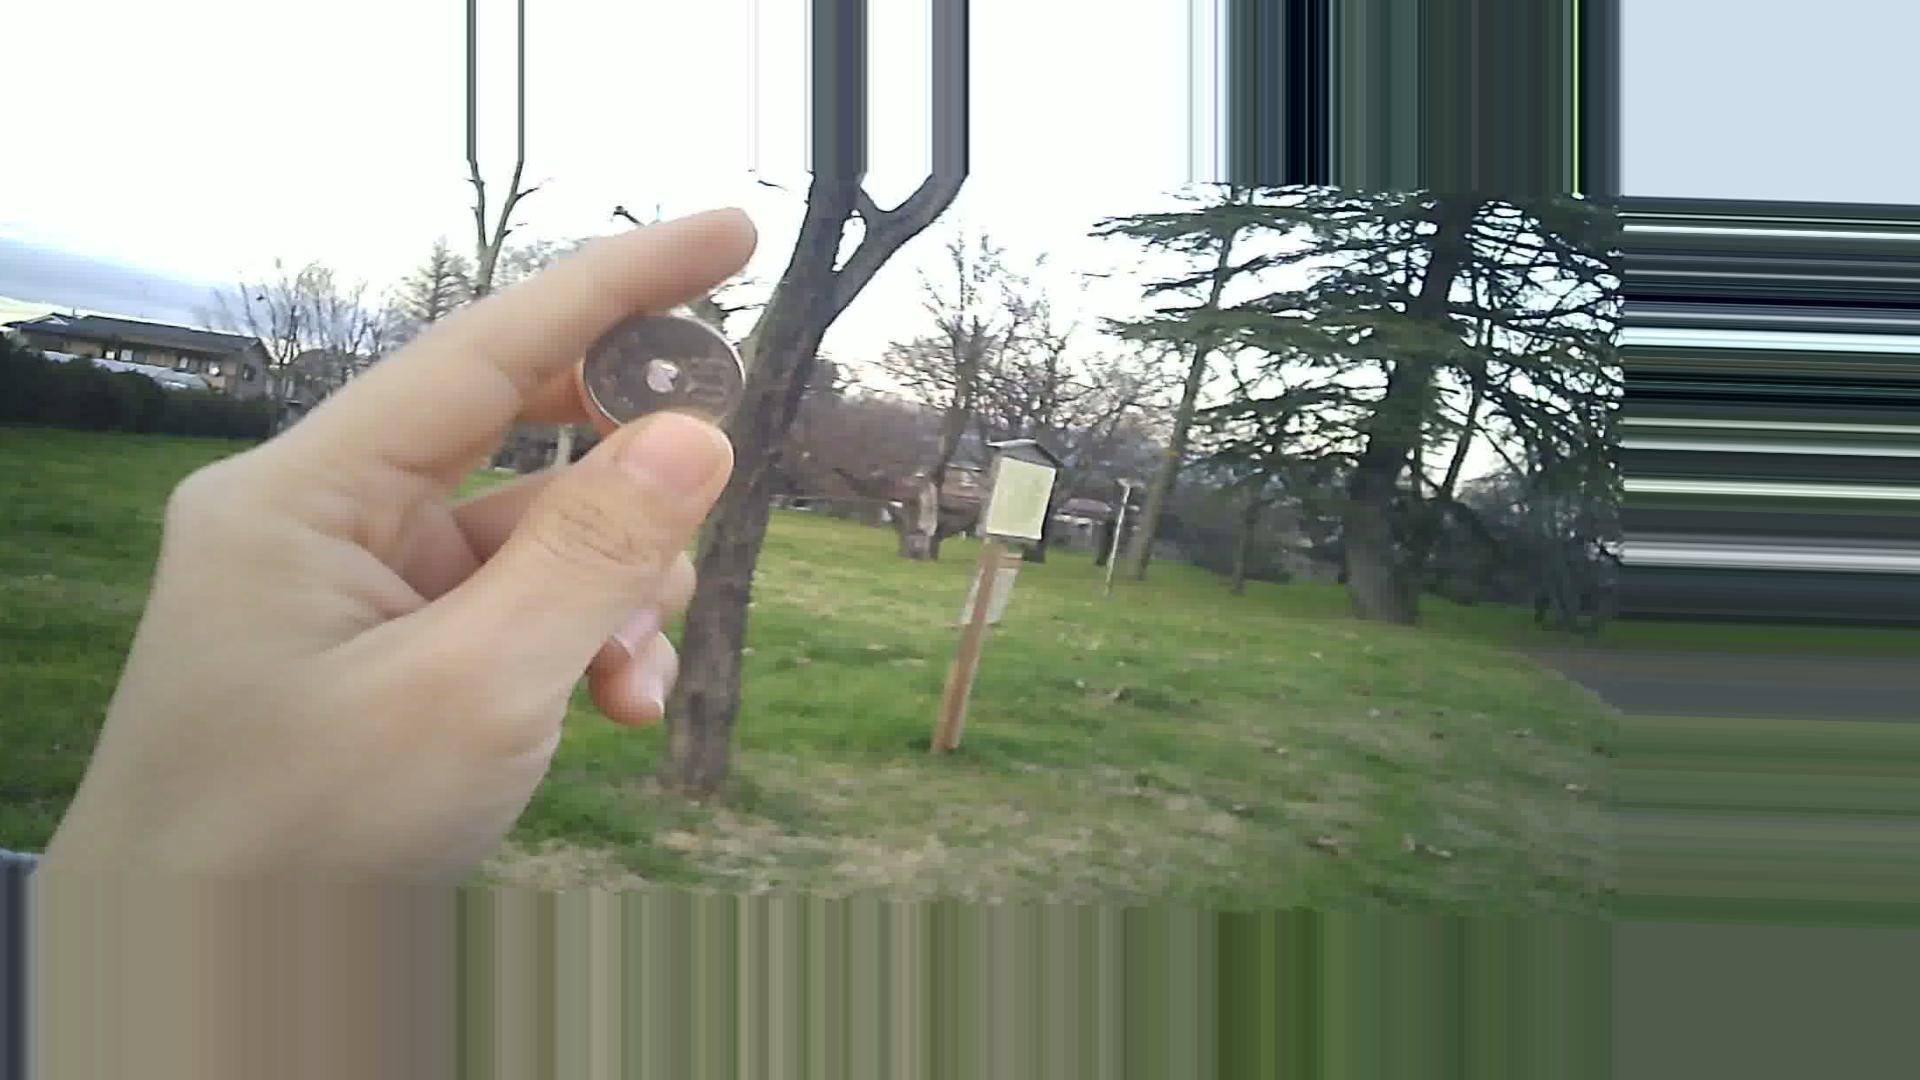50 Yen: (582, 306, 754, 448)
